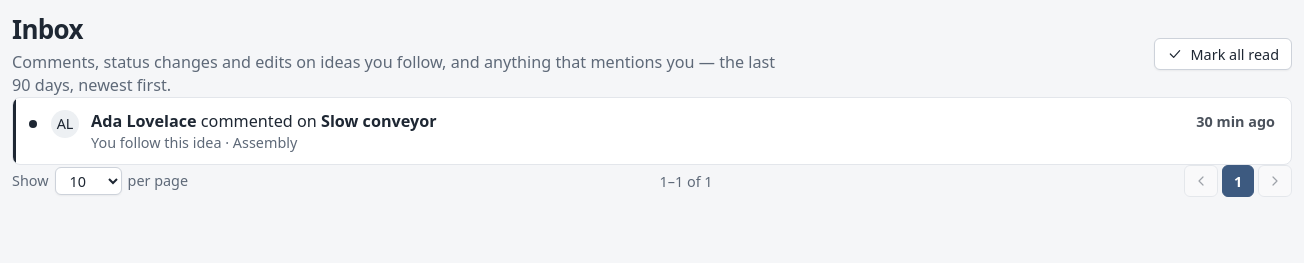
opening a row › shows the API’s message when marking is refused
Click the button "Slow conveyor". click: x=120, y=120
box: [13,98,1291,164]
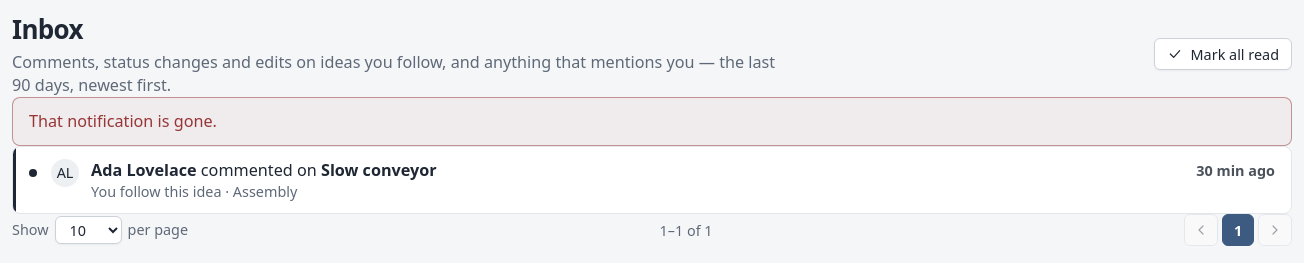
Expected: the message reads "That notification is gone.", [29,110,217,132]
